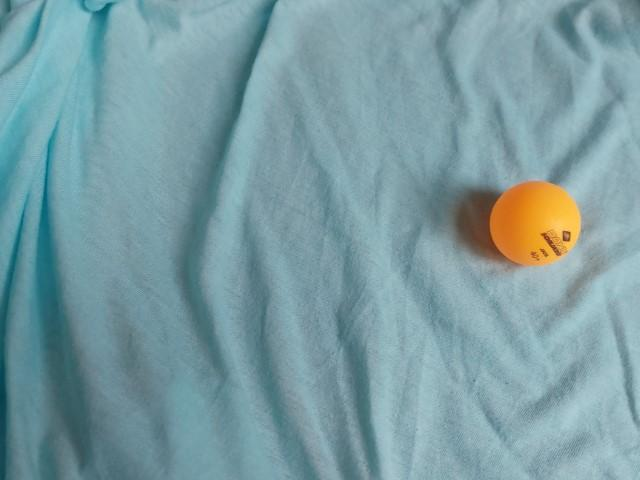oball: (483, 173, 587, 276)
